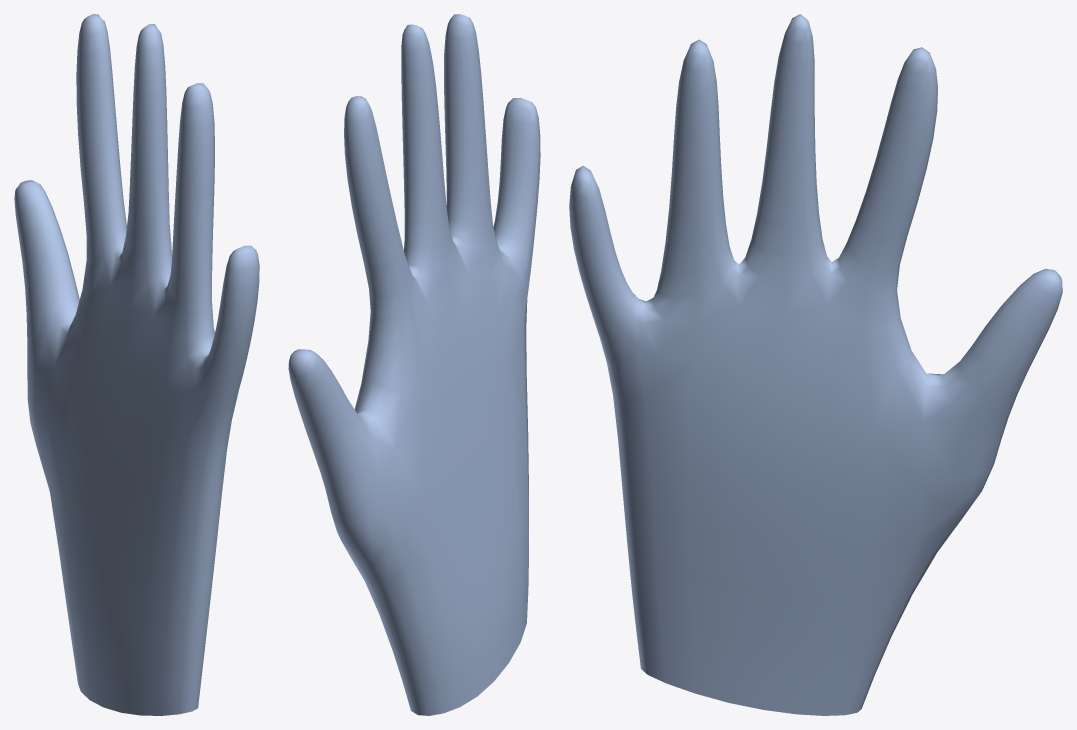
File: zahandoTexture.fbx
3 views of the same model, side by side, from view 1: azimuth 30°, elevation 25°; view 2: azimuth 150°, elevation 25°; view 3: azimuth 270°, elevation 25° (orthographic). The views are drawn at different scales.
Parts seen in each view (by area): view 1: Hand; view 2: Hand; view 3: Hand.
Boxes of the visible parts, box(x1,y1,x2,y2) form: Hand: box(14, 14, 259, 715); Hand: box(288, 14, 540, 715); Hand: box(569, 14, 1062, 715).
Bounding box in the file's own units: 78.26 × 632 × 398.
